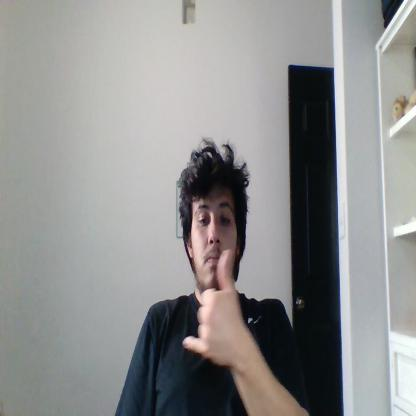Y: (183, 247, 243, 362)
